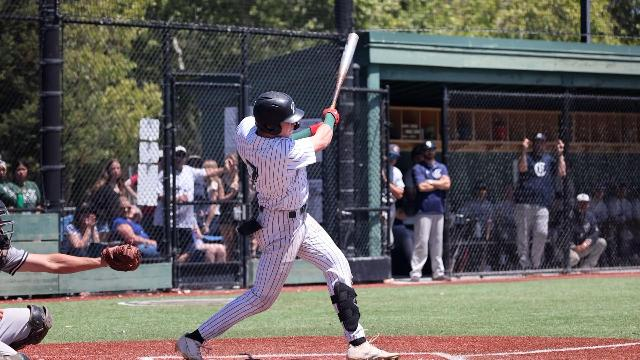baseball bat: (330, 32, 360, 109)
